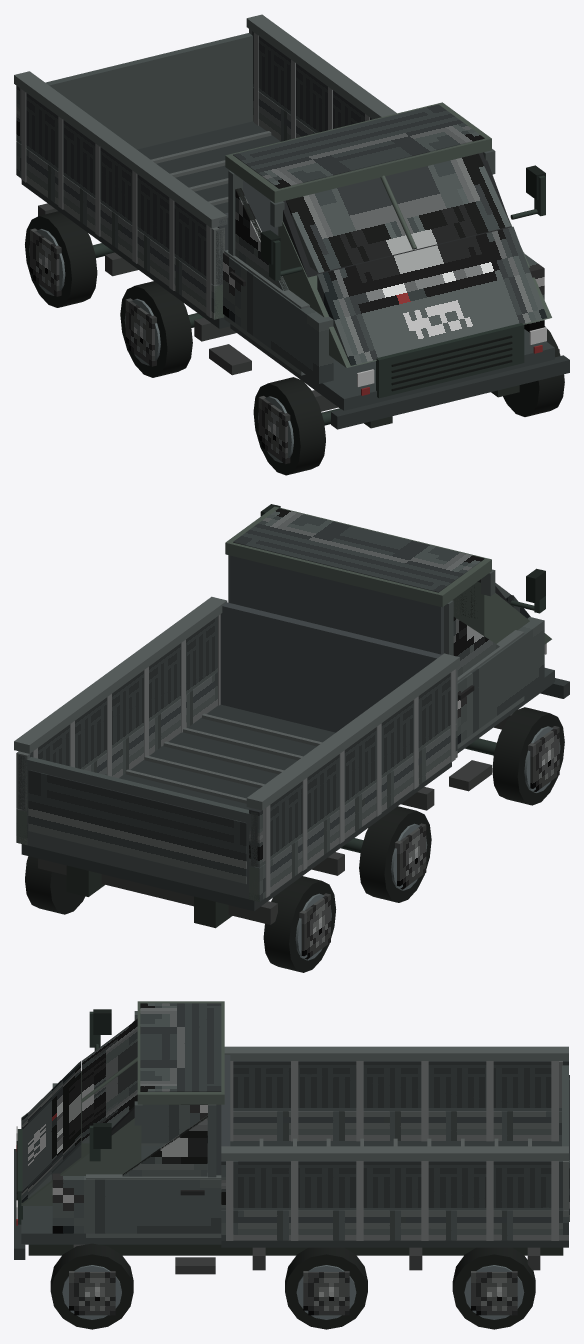
File: CMU3DAU14PropUSCMTroopTruck2Cloud.glb
The picture shows the model from 3 angles, top to bottom: view 1: azimuth 30°, elevation 25°; view 2: azimuth 150°, elevation 25°; view 3: azimuth 270°, elevation 25°; orthographic projection. The views are drawn at different scales.
Visible parts, largest first — view 1: original hood insignia, source front windshield black glass, tailgate lower panel, source cargo wall slats -1, original cab roof pressed panel, source cab door details -1, original side sill panel -1, load bed lower floor, front radiator surround, top cargo side rail -1, cab roof, source cargo wall slats 1 (+20 smaller); view 2: load bed forward bulkhead, original tailgate slat pattern, load bed lower floor, cab rear wall, source cargo wall slats -1, original cab roof pressed panel, source cargo wall slats 1, tailgate lower panel, original side sill panel -1, source cab door details -1, top cargo side rail -1, top cargo side rail 1 (+23 smaller); view 3: source cargo wall slats 1, source cargo wall slats -1, original side sill panel 1, source cab door details 1, original side sill panel -1, original cab roof pressed panel, original hood insignia, top cargo side rail 1, top cargo side rail -1, load bed lower floor, source front windshield black glass, right ladder chassis rail (+35 smaller).
Boxes of the visible parts, <box> form: original hood insignia: <box>317,226,547,365</box>; source front windshield black glass: <box>286,153,510,272</box>; tailgate lower panel: <box>45,33,252,149</box>; source cargo wall slats -1: <box>16,85,224,285</box>; original cab roof pressed panel: <box>233,104,484,188</box>; source cab door details -1: <box>223,253,333,383</box>; original side sill panel -1: <box>16,141,221,319</box>; load bed lower floor: <box>21,121,280,328</box>; front radiator surround: <box>376,323,524,398</box>; top cargo side rail -1: <box>14,71,227,228</box>; cab roof: <box>225,102,491,202</box>; source cargo wall slats 1: <box>249,29,372,132</box>; load bed forward bulkhead: <box>220,602,441,732</box>; original tailgate slat pattern: <box>28,770,246,884</box>; load bed lower floor: <box>21,704,451,911</box>; cab rear wall: <box>230,555,443,654</box>; source cargo wall slats -1: <box>249,668,457,867</box>; original cab roof pressed panel: <box>233,508,484,592</box>; source cargo wall slats 1: <box>16,616,217,810</box>; tailgate lower panel: <box>21,757,254,899</box>; original side sill panel -1: <box>249,723,457,901</box>; source cab door details -1: <box>457,617,544,744</box>; top cargo side rail -1: <box>246,653,459,810</box>; top cargo side rail 1: <box>14,596,227,753</box>; source cargo wall slats 1: <box>221,1161,568,1210</box>; source cargo wall slats -1: <box>233,1061,568,1110</box>; original side sill panel 1: <box>221,1210,568,1240</box>; source cab door details 1: <box>52,1173,221,1233</box>; original side sill panel -1: <box>233,1111,561,1140</box>; original cab roof pressed panel: <box>140,1003,221,1091</box>; original hood insignia: <box>21,1061,81,1202</box>; top cargo side rail 1: <box>221,1146,568,1160</box>; top cargo side rail -1: <box>224,1046,568,1060</box>; load bed lower floor: <box>221,1141,568,1247</box>; source front windshield black glass: <box>82,1019,137,1143</box>; right ladder chassis rail: <box>28,1244,563,1255</box>.
Bounding box in the file's own units: 1.51 × 1.35 × 3.01.
Materials: 30 (9 with a texture image).
